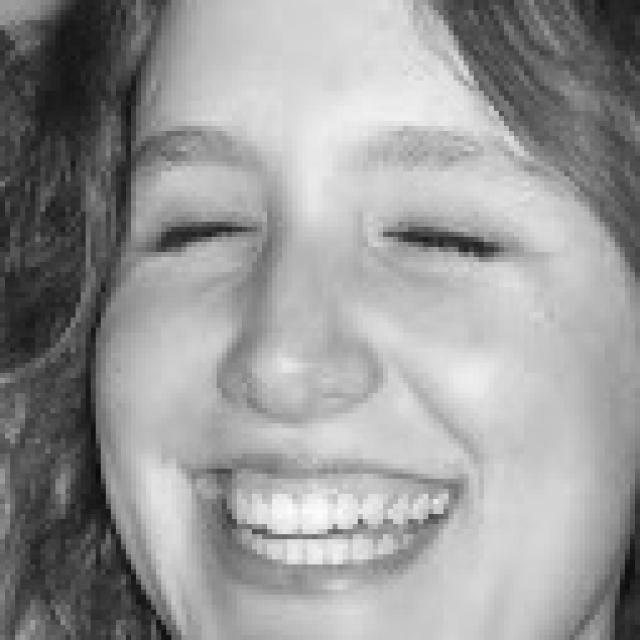real: (110, 42, 580, 620), (139, 154, 560, 286)
